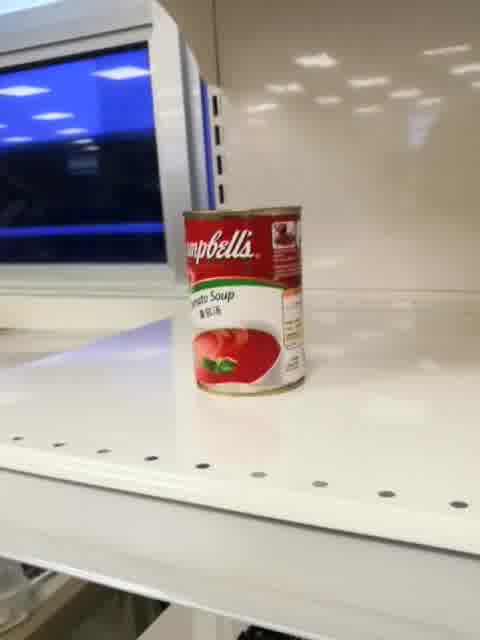tomatosoup: (178, 205, 310, 398)
